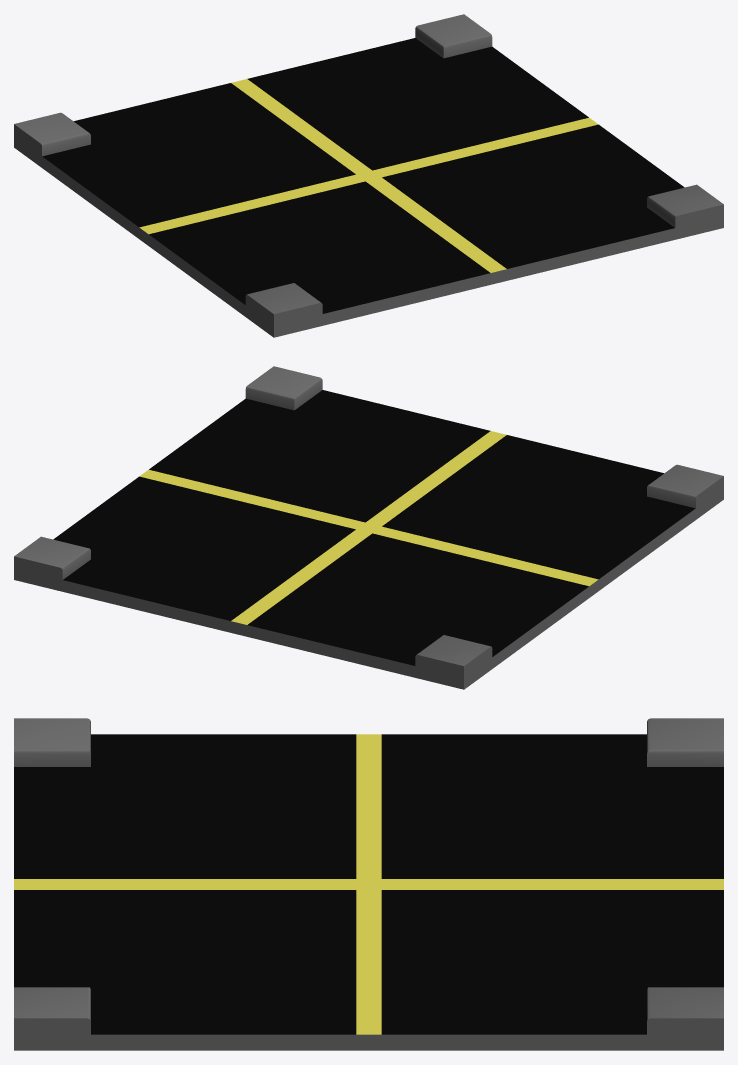
Rendered from Four5.fbx.
3 views of the same model, one above another, from view 1: azimuth 30°, elevation 25°; view 2: azimuth 150°, elevation 25°; view 3: azimuth 270°, elevation 25° (orthographic). The views are drawn at different scales.
Parts seen in each view (by area): view 1: Four3; view 2: Four3; view 3: Four3.
Part boxes in pixels (bbox=[...]): Four3: bbox=[14, 14, 723, 337]; Four3: bbox=[14, 366, 723, 689]; Four3: bbox=[14, 718, 723, 1050].
Size of the model in its own units: 200 by 10 by 200.
